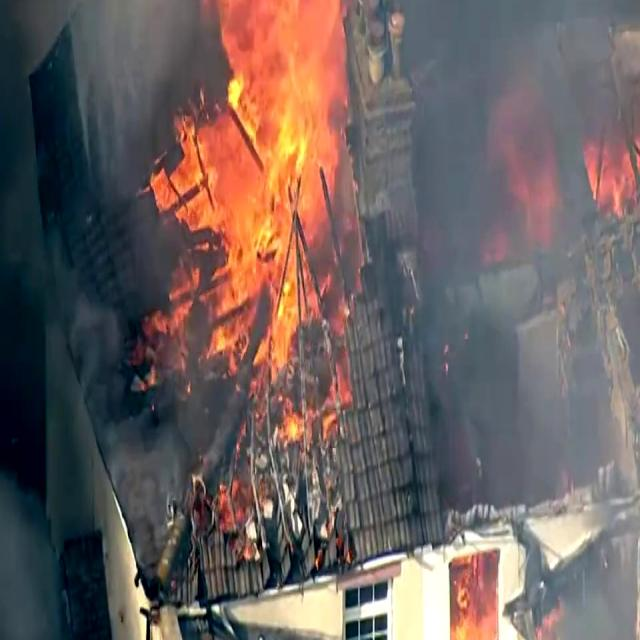fire: (162, 0, 358, 424), (596, 133, 640, 251), (450, 566, 508, 640)
